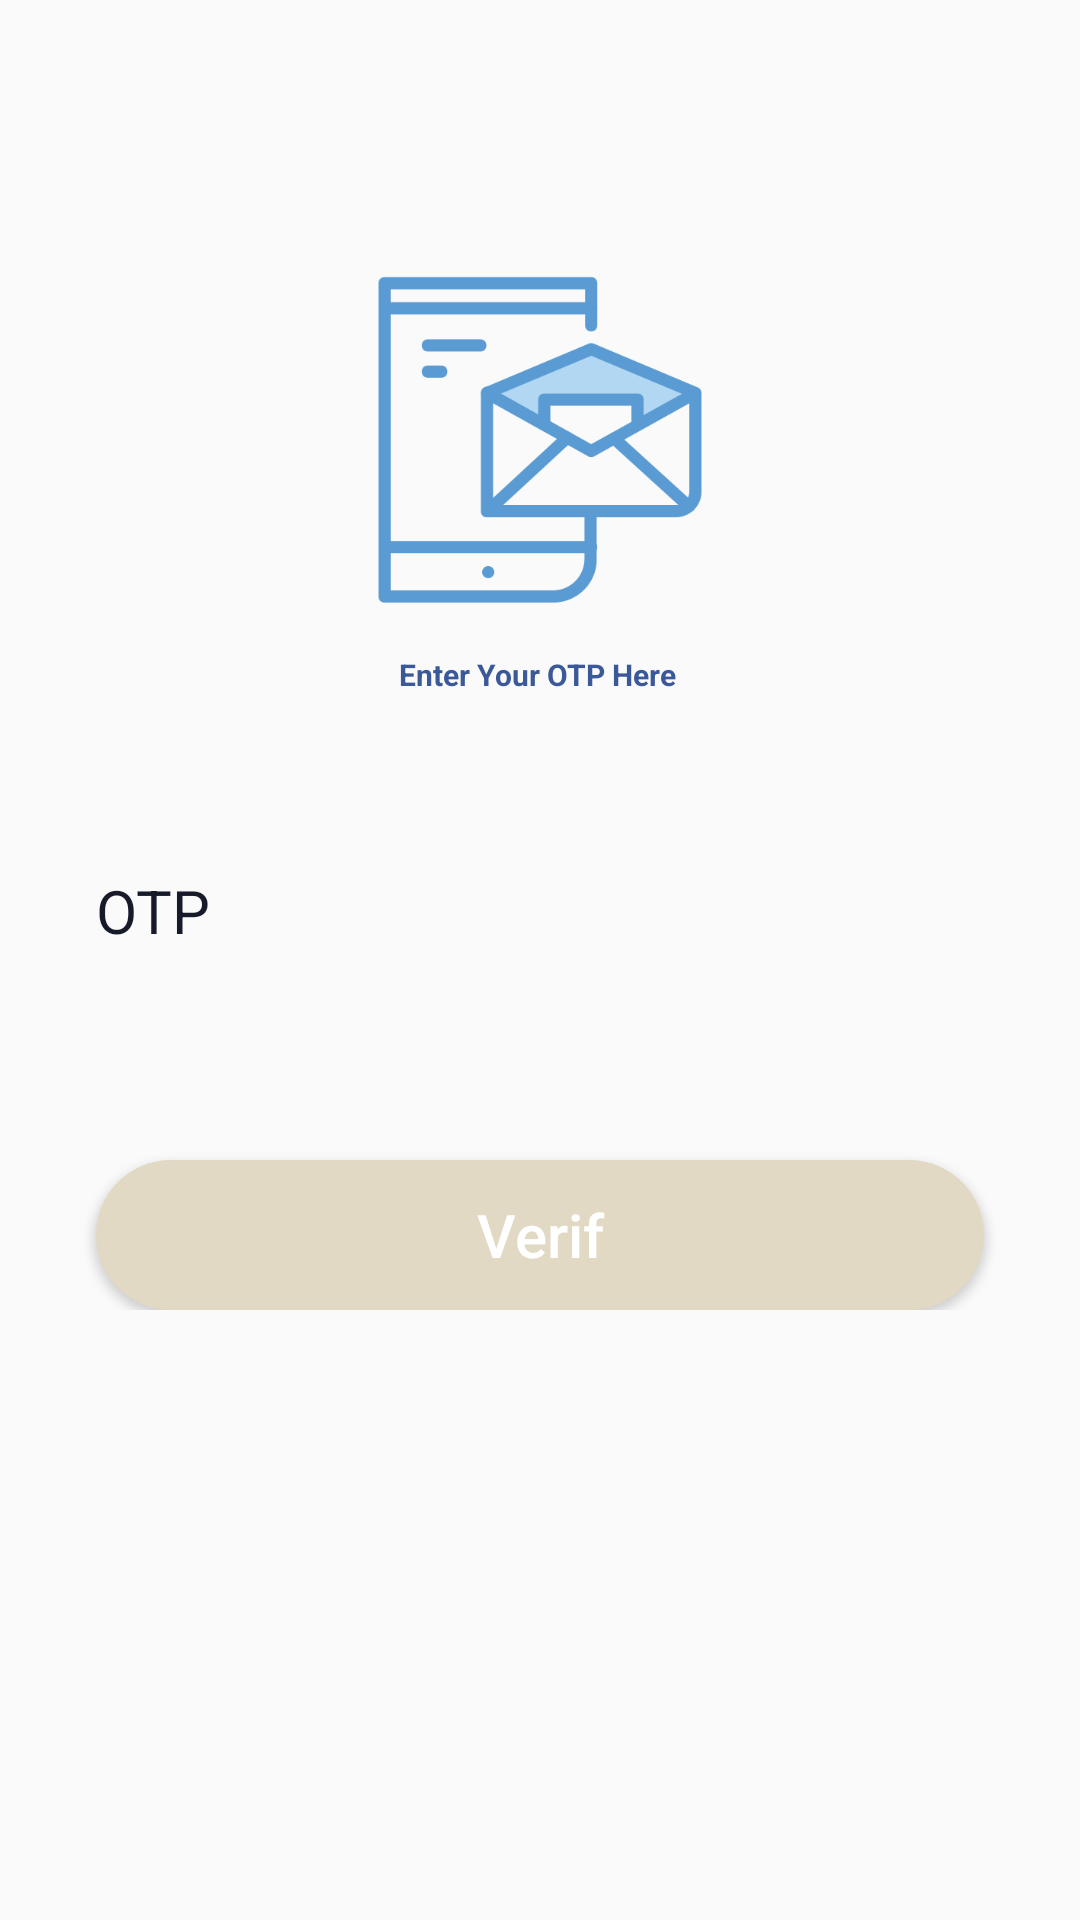

Locate icon controls on the screen. Image size 1080 × 1920, boxes as (x1, y1, x2, y2).
email: (378, 277, 702, 603)
